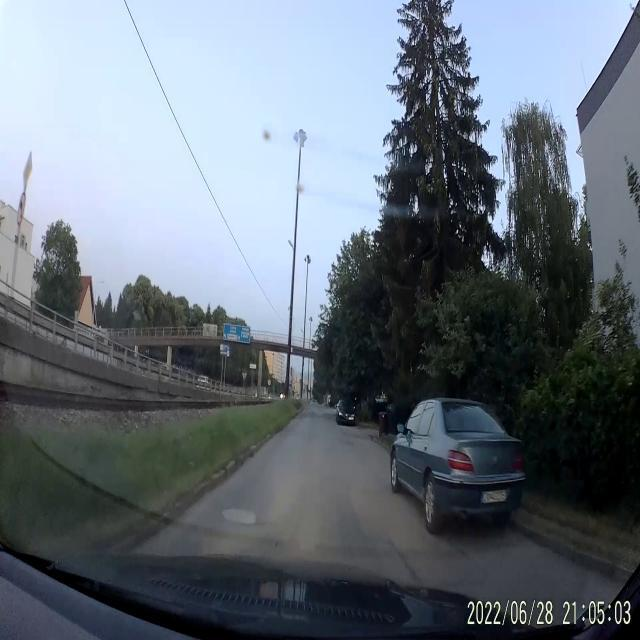Pothole: (218, 502, 264, 528)
